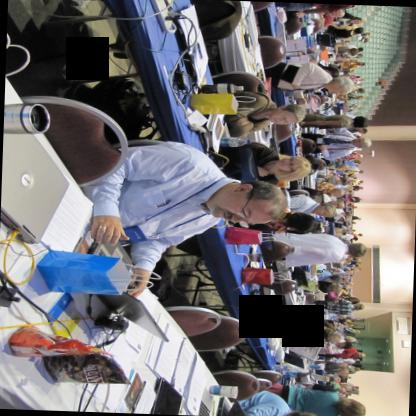handbag: (34, 248, 161, 296), (190, 93, 255, 114), (224, 226, 276, 245), (240, 267, 286, 285), (257, 317, 294, 335), (279, 64, 299, 84), (302, 310, 316, 318), (318, 49, 327, 61), (313, 293, 324, 301)
